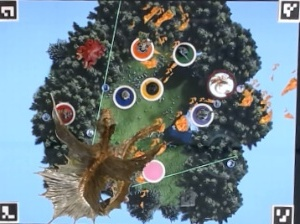blue: (111, 82, 138, 109)
green: (171, 40, 197, 66)
orange: (131, 34, 154, 60)
pink: (142, 157, 167, 182)
red: (49, 100, 75, 125)
violet: (187, 102, 217, 126)
yellow: (140, 73, 166, 101)
